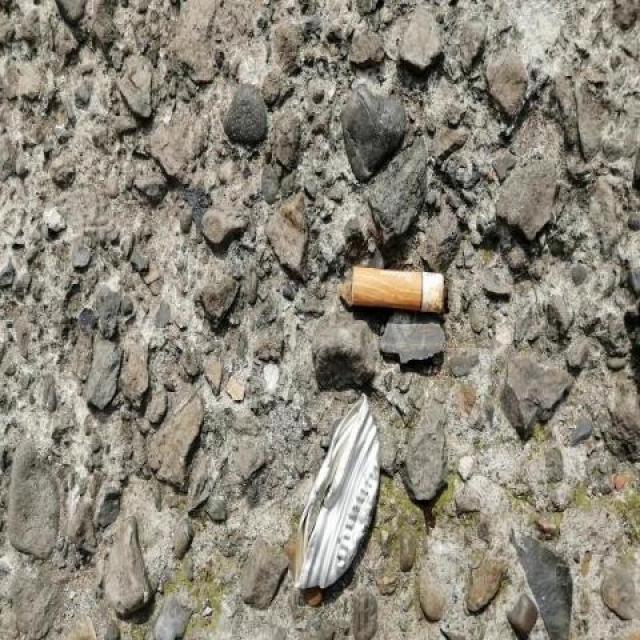non-organic waste: (345, 259, 452, 325)
